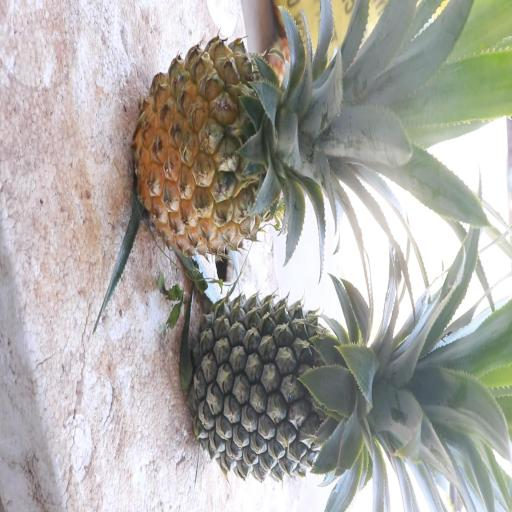Pineapple - v8 v1: (136, 18, 414, 260)
